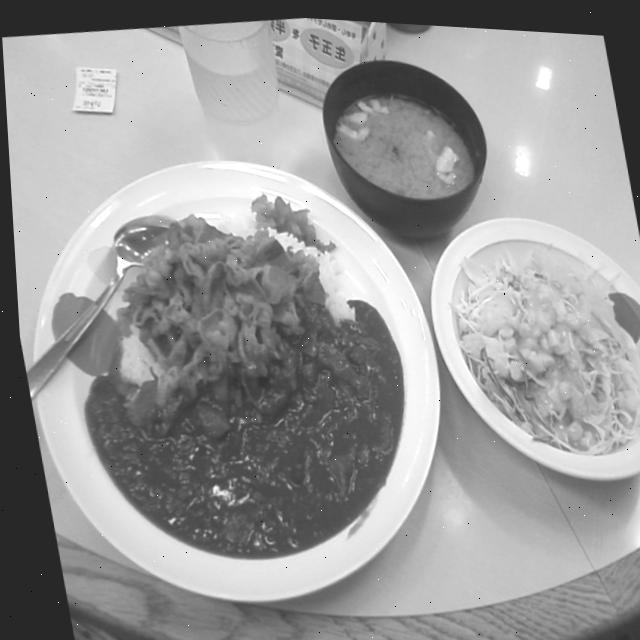汤锅炖物: (325, 70, 491, 212)
牛肉菜式: (51, 255, 448, 602)
蔬菜料理: (437, 206, 640, 470)
